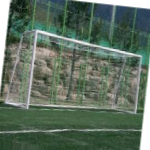goals: (5, 28, 143, 114)
